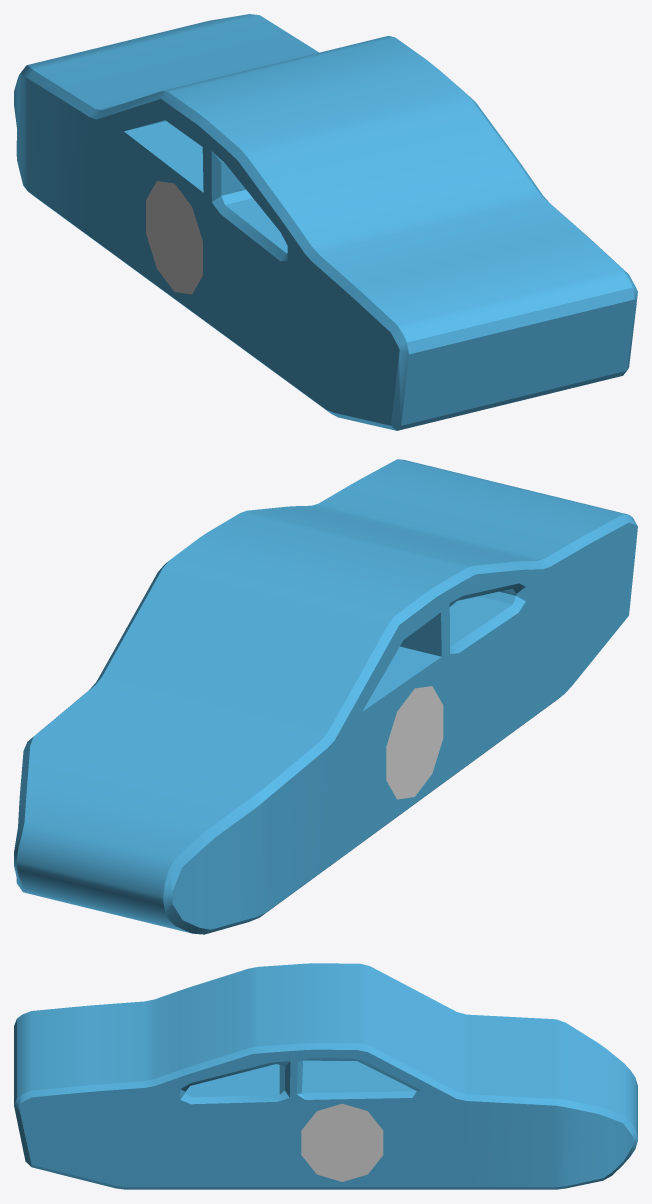
The model's file is car2.fbx.
3 renders of one model, top to bottom at view 1: azimuth 30°, elevation 25°; view 2: azimuth 150°, elevation 25°; view 3: azimuth 270°, elevation 25°, orthographic. The views are drawn at different scales.
Visible parts, largest first — view 1: car2, number_plate.003; view 2: car2, number_plate.003; view 3: car2, number_plate.002.
Part boxes in pixels (left/top/right/bottom): car2: left=14, top=14, right=637, bottom=430; number_plate.003: left=146, top=181, right=202, bottom=294; car2: left=14, top=459, right=637, bottom=934; number_plate.003: left=386, top=686, right=443, bottom=799; car2: left=14, top=963, right=637, bottom=1189; number_plate.002: left=301, top=1103, right=383, bottom=1181.
Size of the model in its own units: 244 by 197 by 761.
